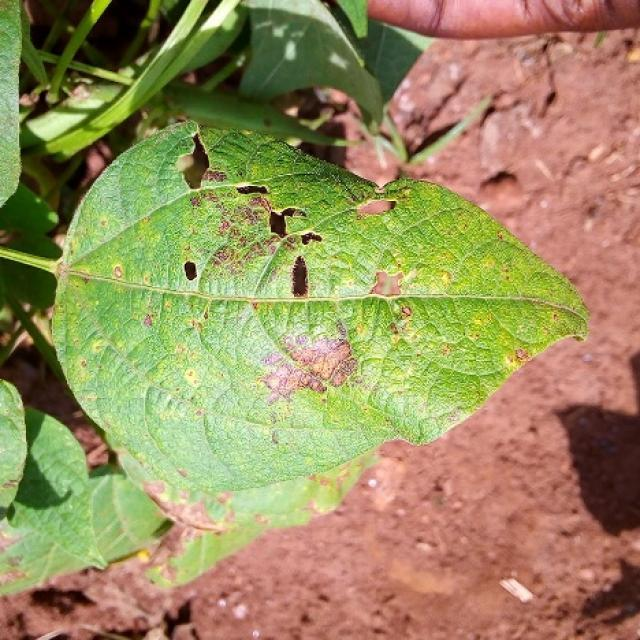mozaik: (230, 171, 360, 317), (344, 181, 427, 249), (160, 231, 222, 304), (171, 129, 221, 213)
